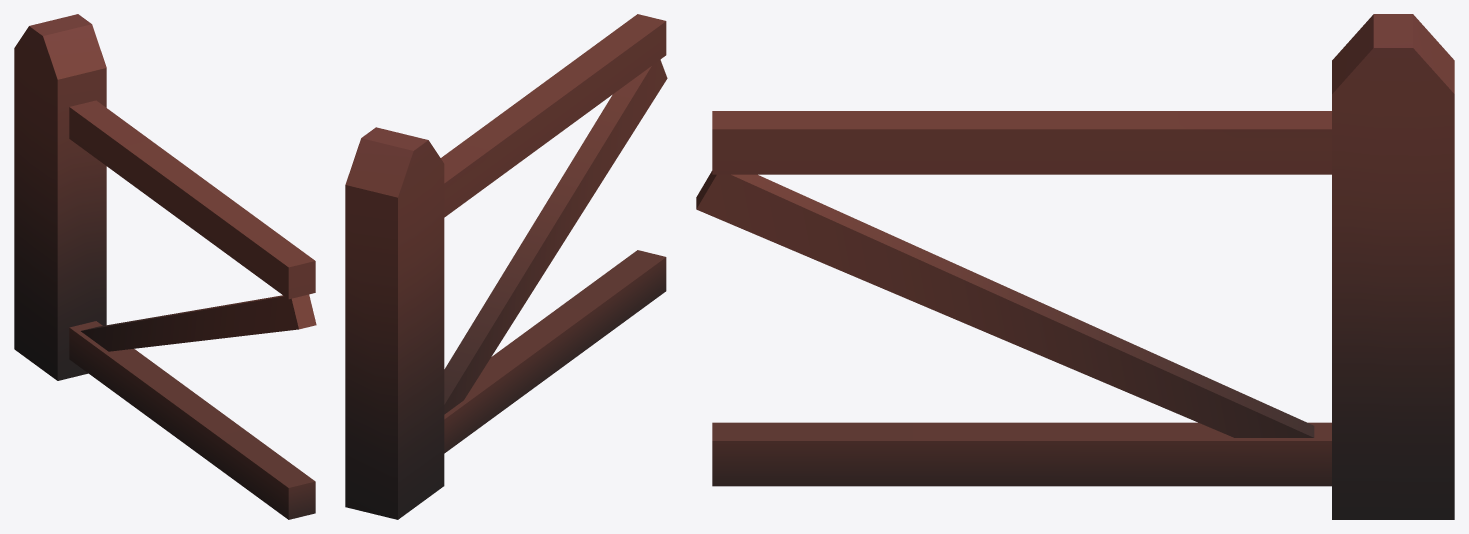
File: Parcan.fbx
3 views of the same model, side by side, from view 1: azimuth 30°, elevation 25°; view 2: azimuth 150°, elevation 25°; view 3: azimuth 270°, elevation 25° (orthographic). The views are drawn at different scales.
Parts seen in each view (by area): view 1: ParkanPart, UpperPart, LowerPart, Midle part; view 2: ParkanPart, Midle part, UpperPart, LowerPart; view 3: ParkanPart, UpperPart, LowerPart, Midle part.
Part boxes in pixels (x1,y1,x2,y2): ParkanPart: [14, 14, 106, 380]; UpperPart: [69, 100, 315, 299]; LowerPart: [69, 321, 315, 519]; Midle part: [81, 294, 316, 351]; ParkanPart: [345, 127, 444, 519]; Midle part: [444, 59, 667, 414]; UpperPart: [441, 14, 666, 217]; LowerPart: [444, 250, 666, 453]; ParkanPart: [1332, 14, 1454, 519]; UpperPart: [712, 111, 1331, 174]; LowerPart: [712, 422, 1331, 486]; Midle part: [696, 171, 1314, 437].
Bounding box in the file's own units: 23.81 × 155 × 225.
